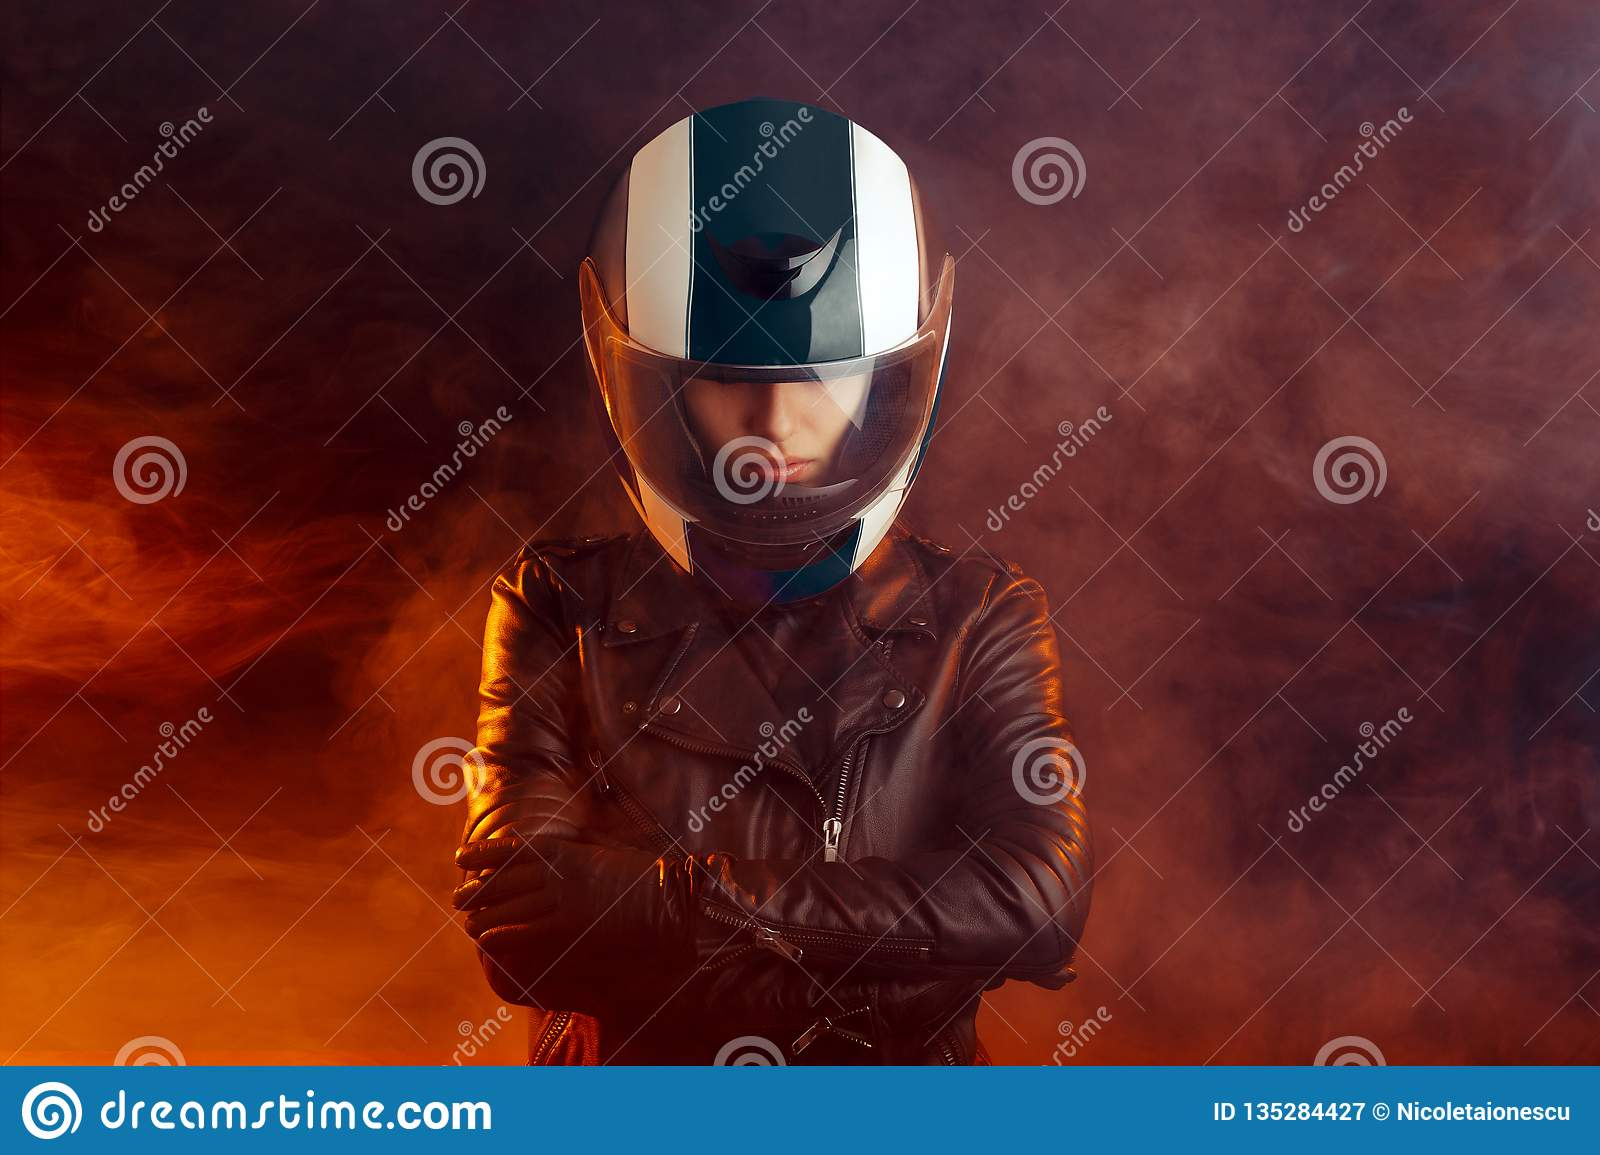helmet: (575, 120, 980, 610)
